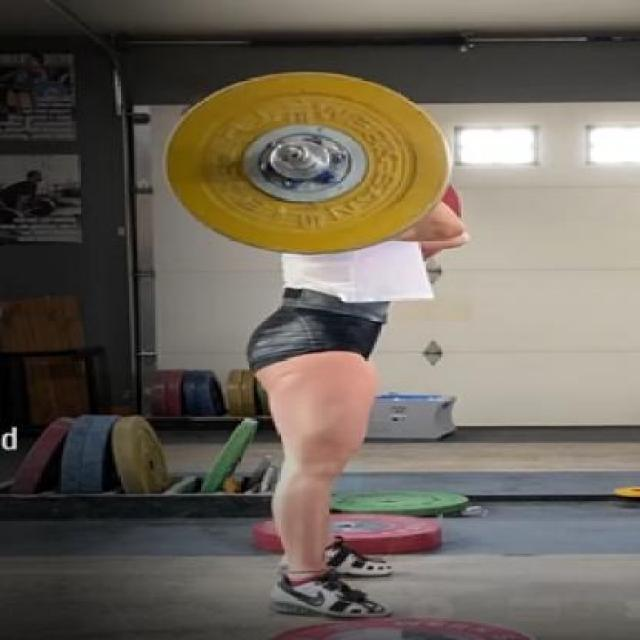Barbell: (265, 136, 324, 170)
